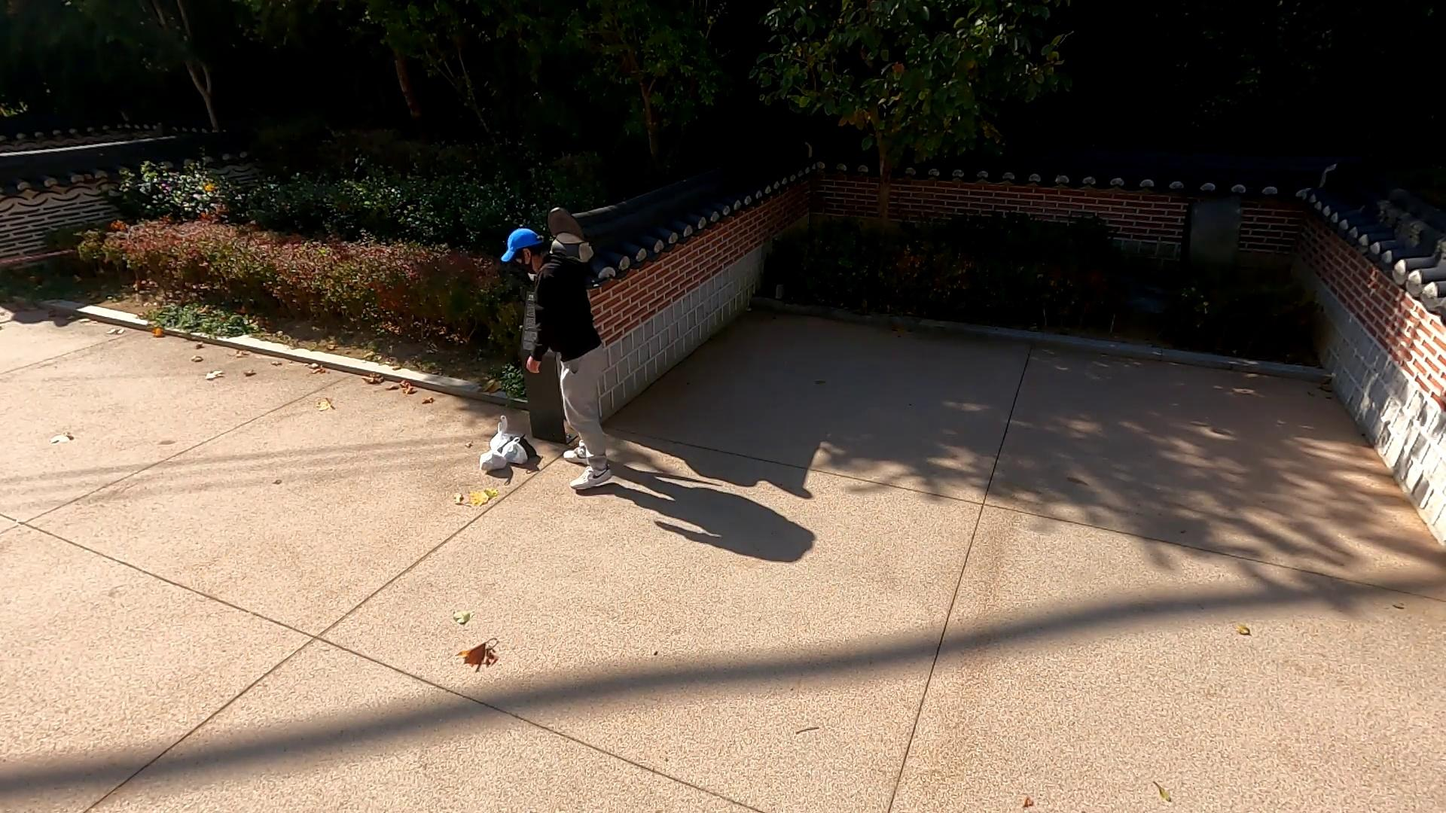person: (502, 224, 613, 493)
trash: (490, 415, 518, 454), (499, 434, 538, 457), (496, 437, 528, 465), (479, 442, 506, 473)
